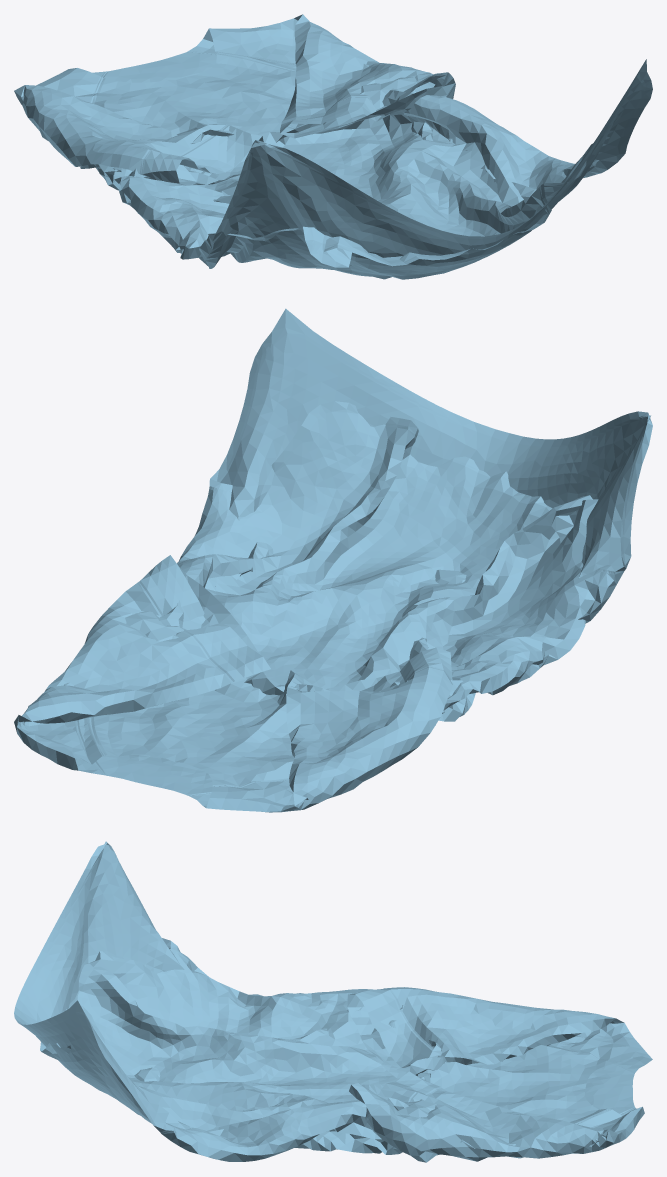
File: frame_04.glb
The picture shows the model from 3 angles, top to bottom: view 1: azimuth 30°, elevation 25°; view 2: azimuth 150°, elevation 25°; view 3: azimuth 270°, elevation 25°; orthographic projection. The views are drawn at different scales.
Visible parts, largest first — view 1: frame_04.obj; view 2: frame_04.obj; view 3: frame_04.obj.
Part boxes in pixels (<box>): frame_04.obj: <box>14,14,652,279</box>; frame_04.obj: <box>14,308,652,812</box>; frame_04.obj: <box>14,841,652,1162</box>.
Size of the model in its own units: 1.15 by 0.5384 by 1.77.
